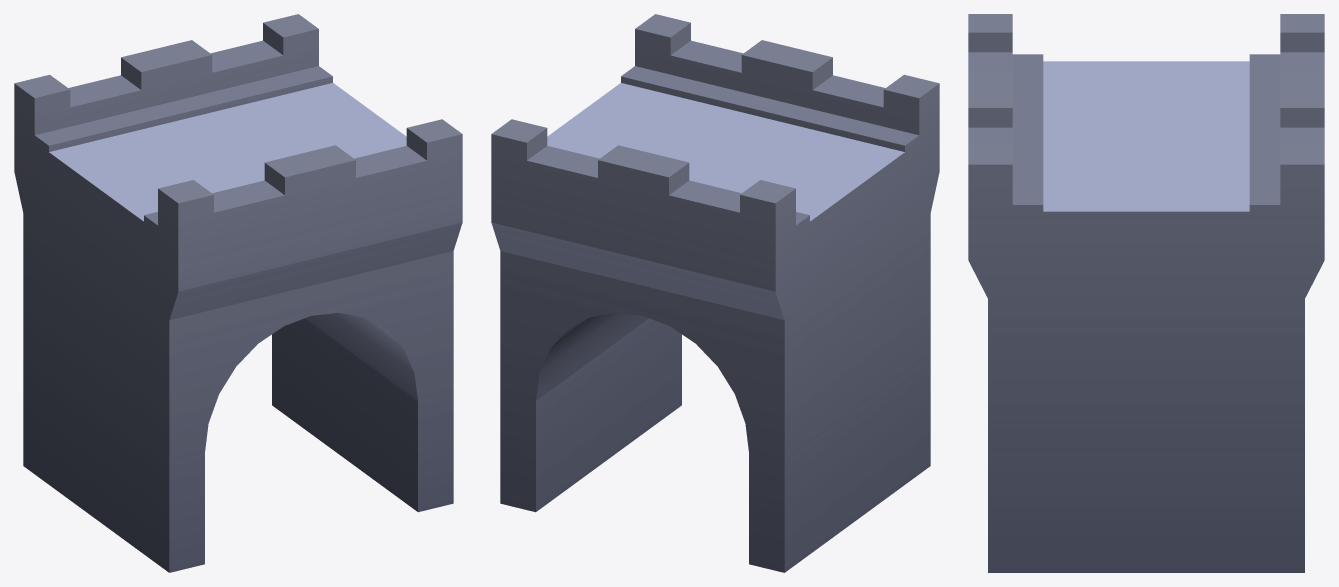
The model's file is bridge-straight.fbx.
3 views of the same model, side by side, from view 1: azimuth 30°, elevation 25°; view 2: azimuth 150°, elevation 25°; view 3: azimuth 270°, elevation 25° (orthographic). The views are drawn at different scales.
Parts seen in each view (by area): view 1: bridge-straight; view 2: bridge-straight; view 3: bridge-straight.
Part boxes in pixels (x1,y1,x2,y2): bridge-straight: (14, 14, 462, 572); bridge-straight: (491, 14, 939, 572); bridge-straight: (968, 14, 1324, 572).
Size of the model in its own units: 0.93 by 0.93 by 1.18.
